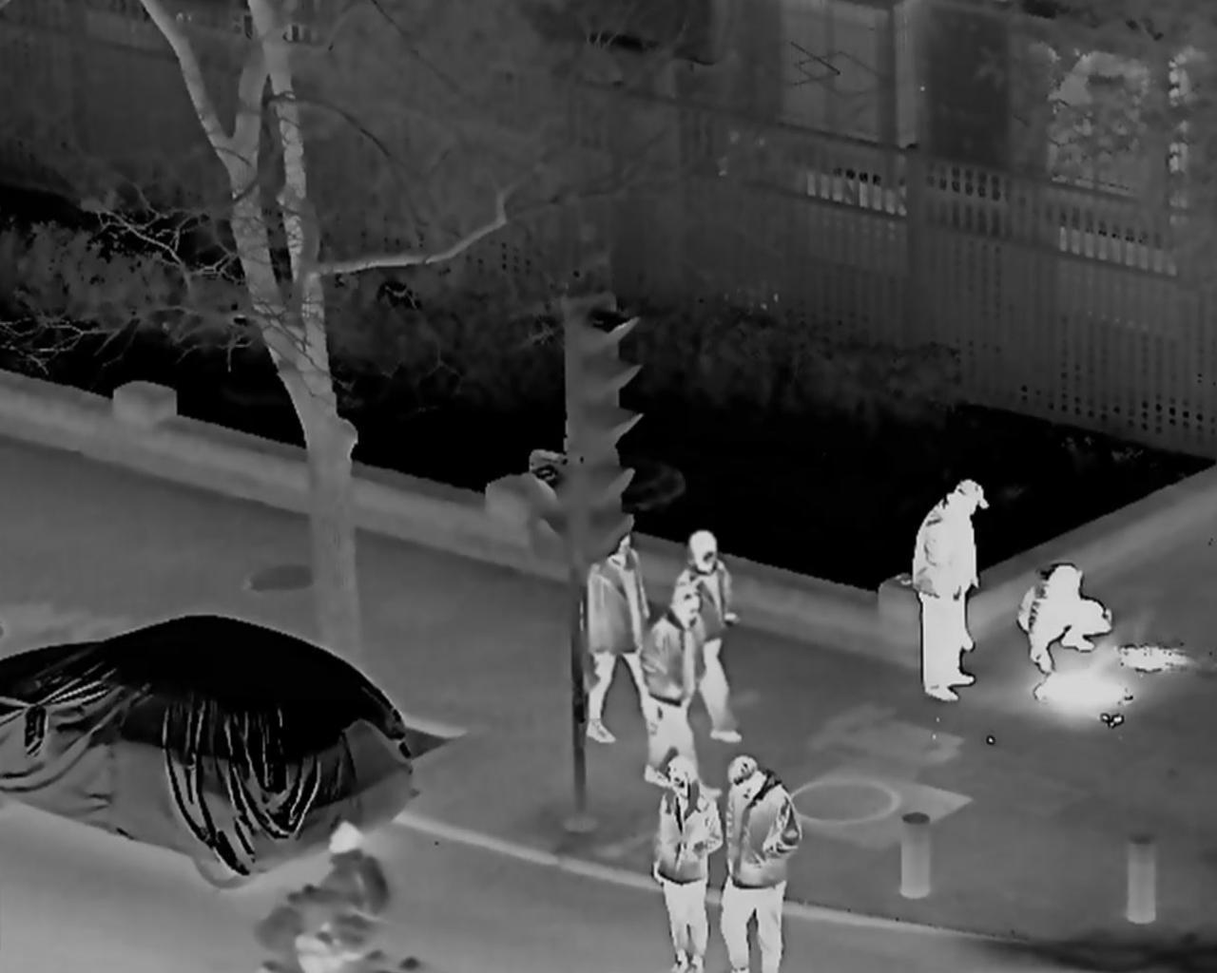person: (718, 759, 805, 969), (908, 476, 988, 703), (582, 521, 657, 749), (669, 530, 749, 741), (284, 823, 393, 973), (644, 583, 707, 792), (654, 752, 713, 973), (1020, 561, 1108, 676)
